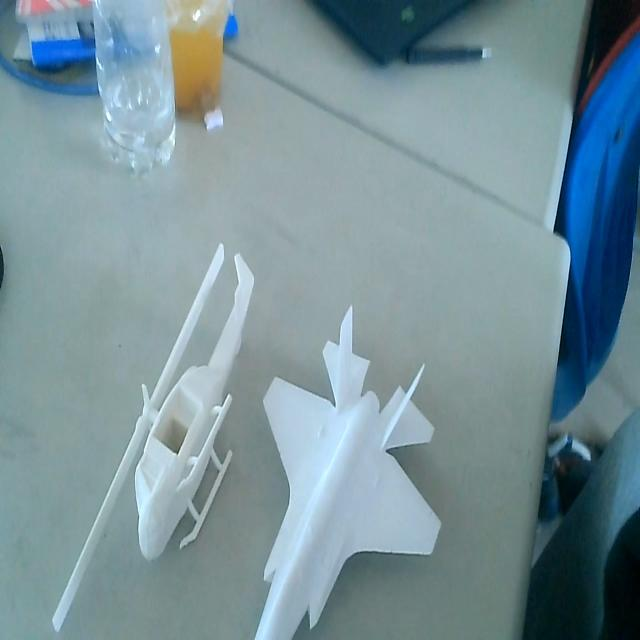Helicopter: (49, 239, 254, 640)
Jet: (258, 302, 443, 640)
